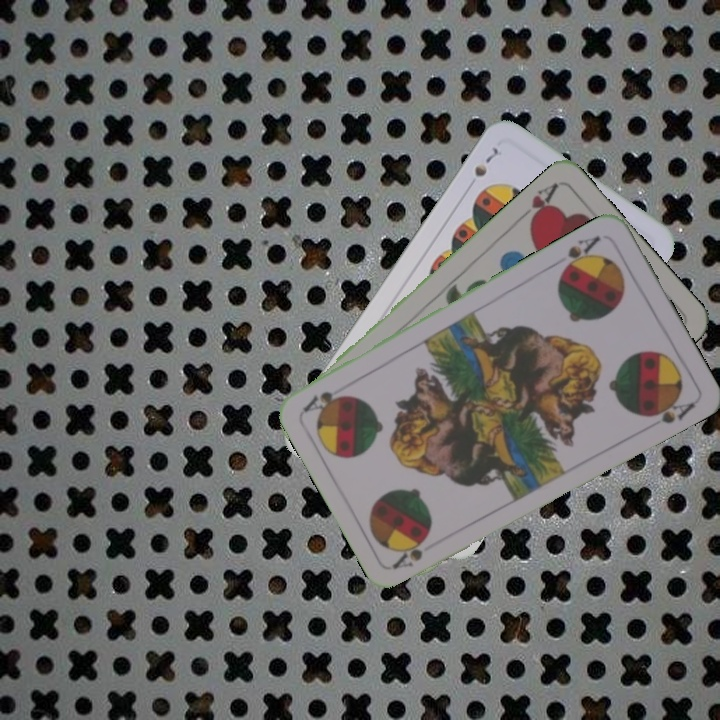HA: (513, 179, 561, 228)
S7: (470, 143, 502, 180)
SA: (557, 231, 604, 276), (389, 536, 428, 571)
